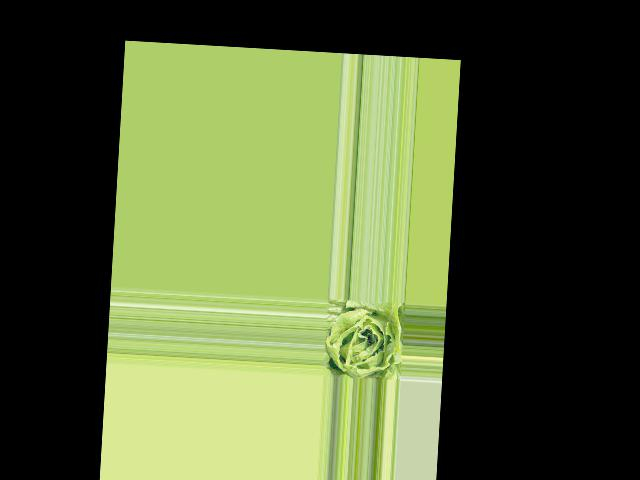lettuce: (323, 298, 404, 379)
